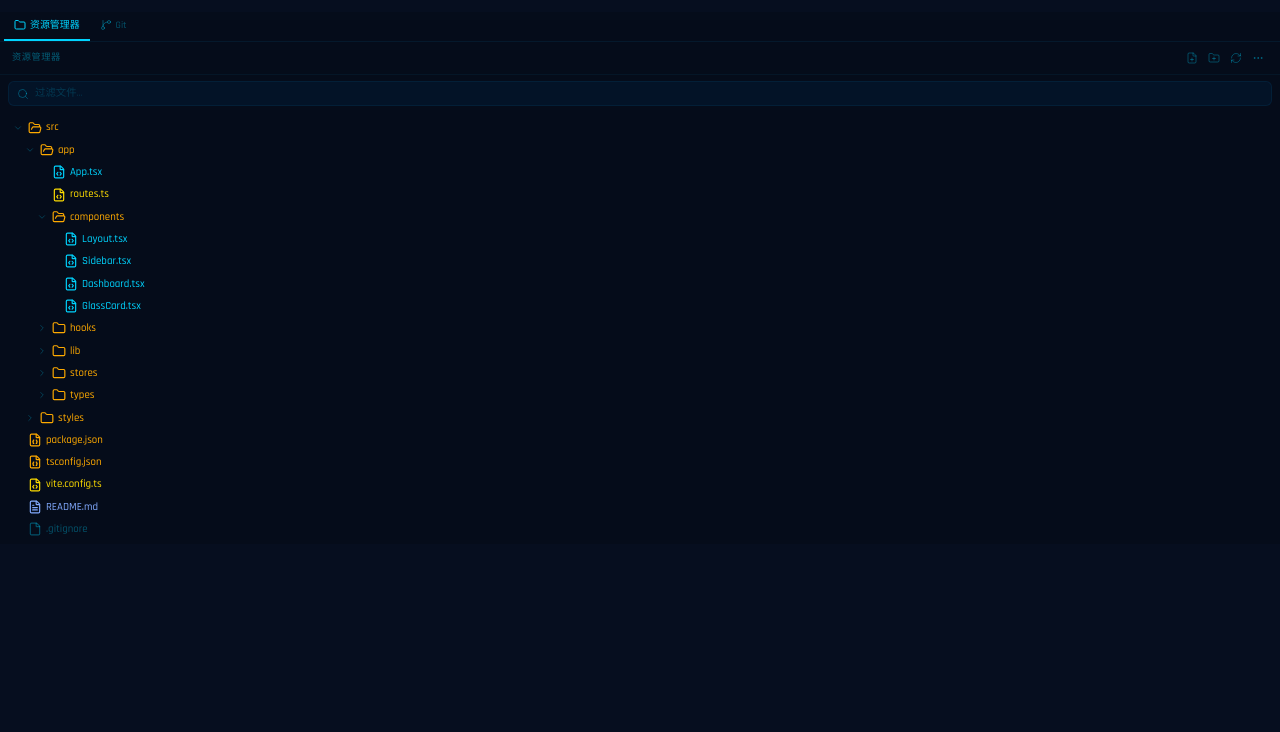
Test: FileExplorer › 右键菜单删除文件
The image size is (1280, 732).
Right-click the button "App.tsx": (86, 172) top-left (4, 161), bottom-right (1276, 183)
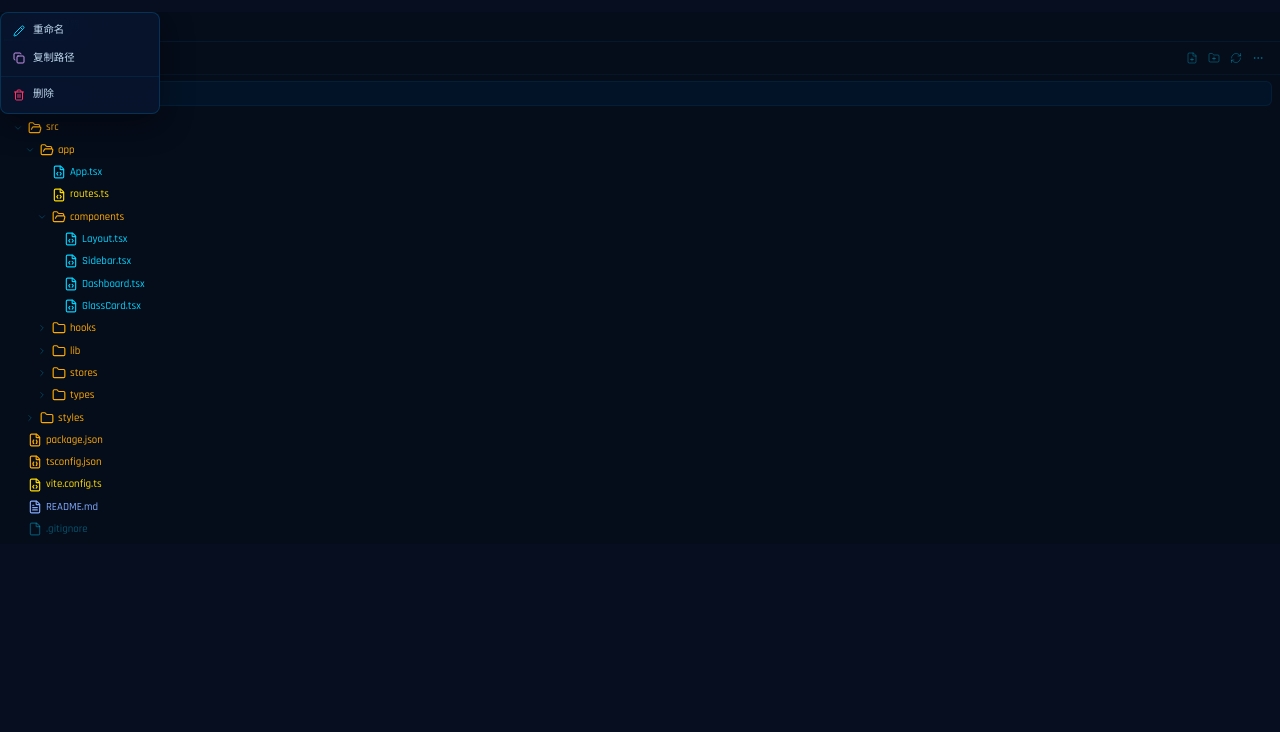
Click the button "删除": click(80, 95) top-left (1, 81), bottom-right (159, 109)
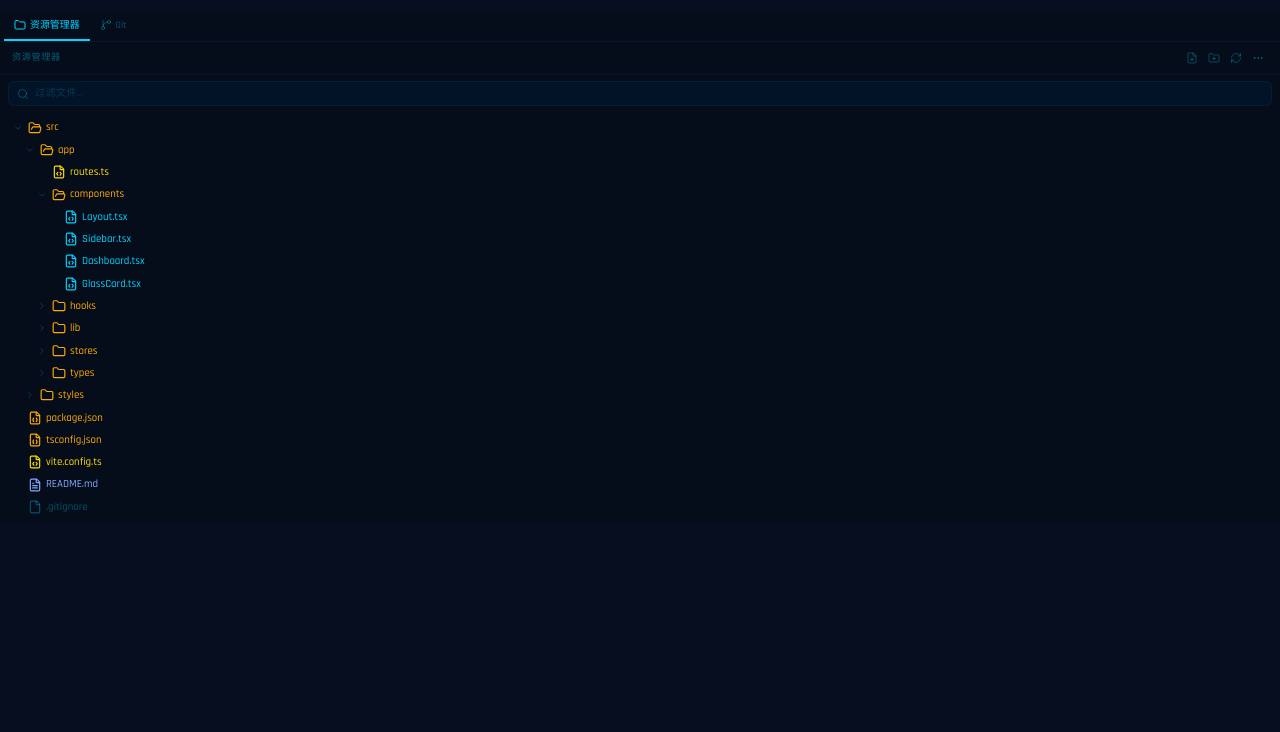
Check: the button "App.tsx" is gone
